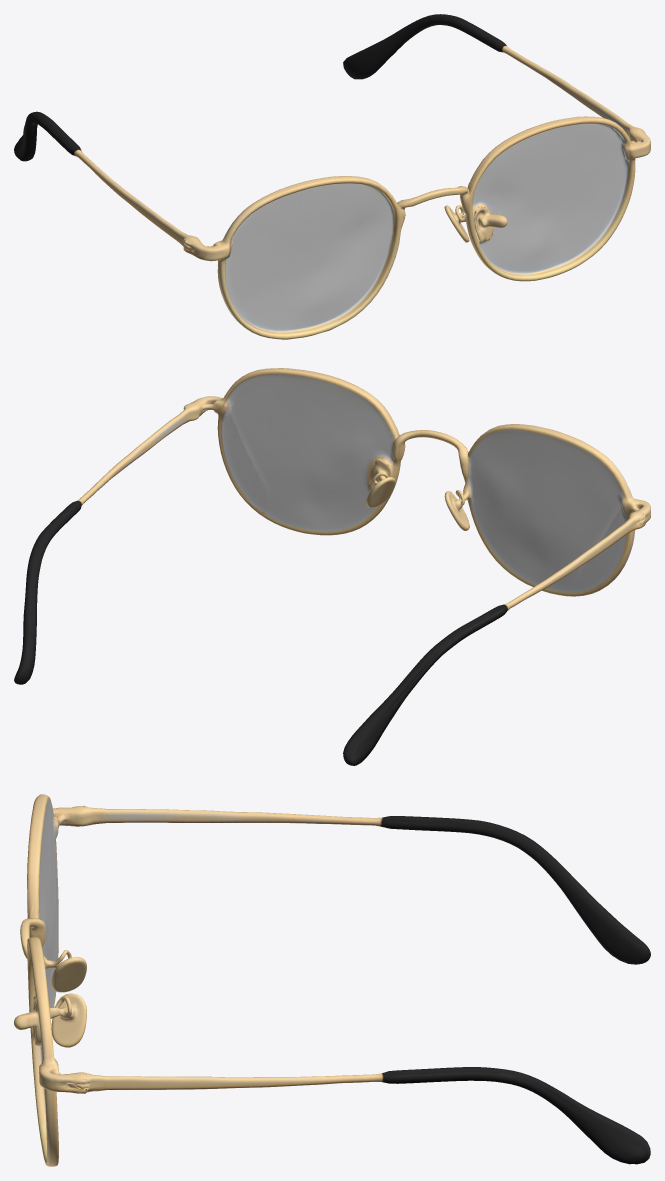
Rendered from tripo_convert_6c6776d4-a332-4191-8b9e-005966a8d846.fbx.
3 views of the same model, one above another, from view 1: azimuth 30°, elevation 25°; view 2: azimuth 150°, elevation 25°; view 3: azimuth 270°, elevation 25° (orthographic). The views are drawn at different scales.
Parts seen in each view (by area): view 1: tripo_node_6c6776d4; view 2: tripo_node_6c6776d4; view 3: tripo_node_6c6776d4.
Part boxes in pixels (x1,y1,x2,y2): tripo_node_6c6776d4: [14, 14, 650, 339]; tripo_node_6c6776d4: [14, 368, 650, 765]; tripo_node_6c6776d4: [14, 794, 650, 1166].
Bounding box in the file's own units: 0.9798 × 0.3201 × 0.958.
1 material, 1 textured.
